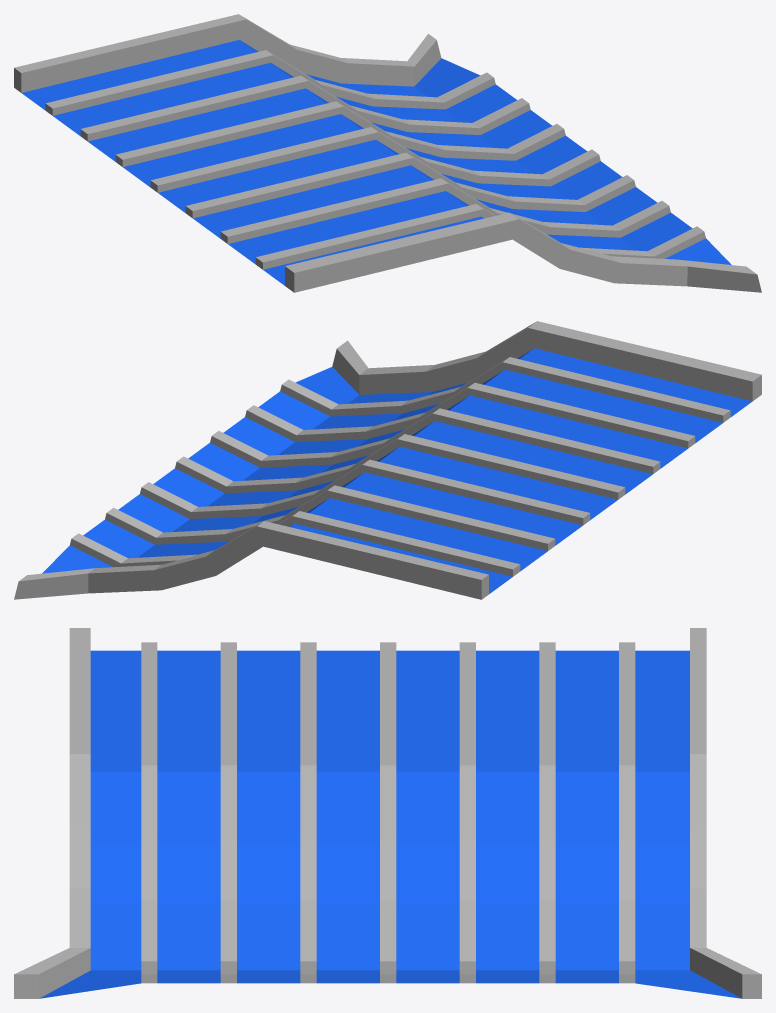
File: chinese roof.fbx
The picture shows the model from 3 angles, top to bottom: view 1: azimuth 30°, elevation 25°; view 2: azimuth 150°, elevation 25°; view 3: azimuth 270°, elevation 25°; orthographic projection. The views are drawn at different scales.
Visible parts, largest first — view 1: chinese roof simplified; view 2: chinese roof simplified; view 3: chinese roof simplified.
Part boxes in pixels (box(x1,y1,x2,y2)): chinese roof simplified: box(14, 14, 761, 292); chinese roof simplified: box(14, 321, 761, 599); chinese roof simplified: box(14, 628, 761, 998).
Size of the model in its own units: 516 by 122 by 664.
